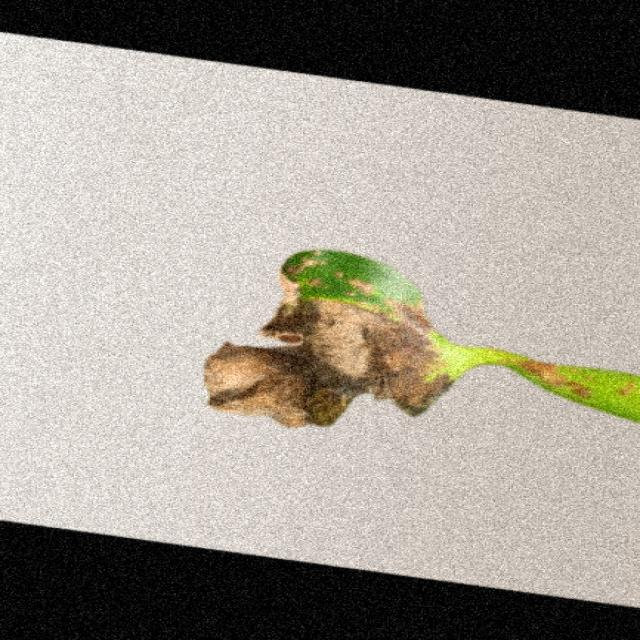daun berpenyakit karat: (203, 250, 638, 427)
